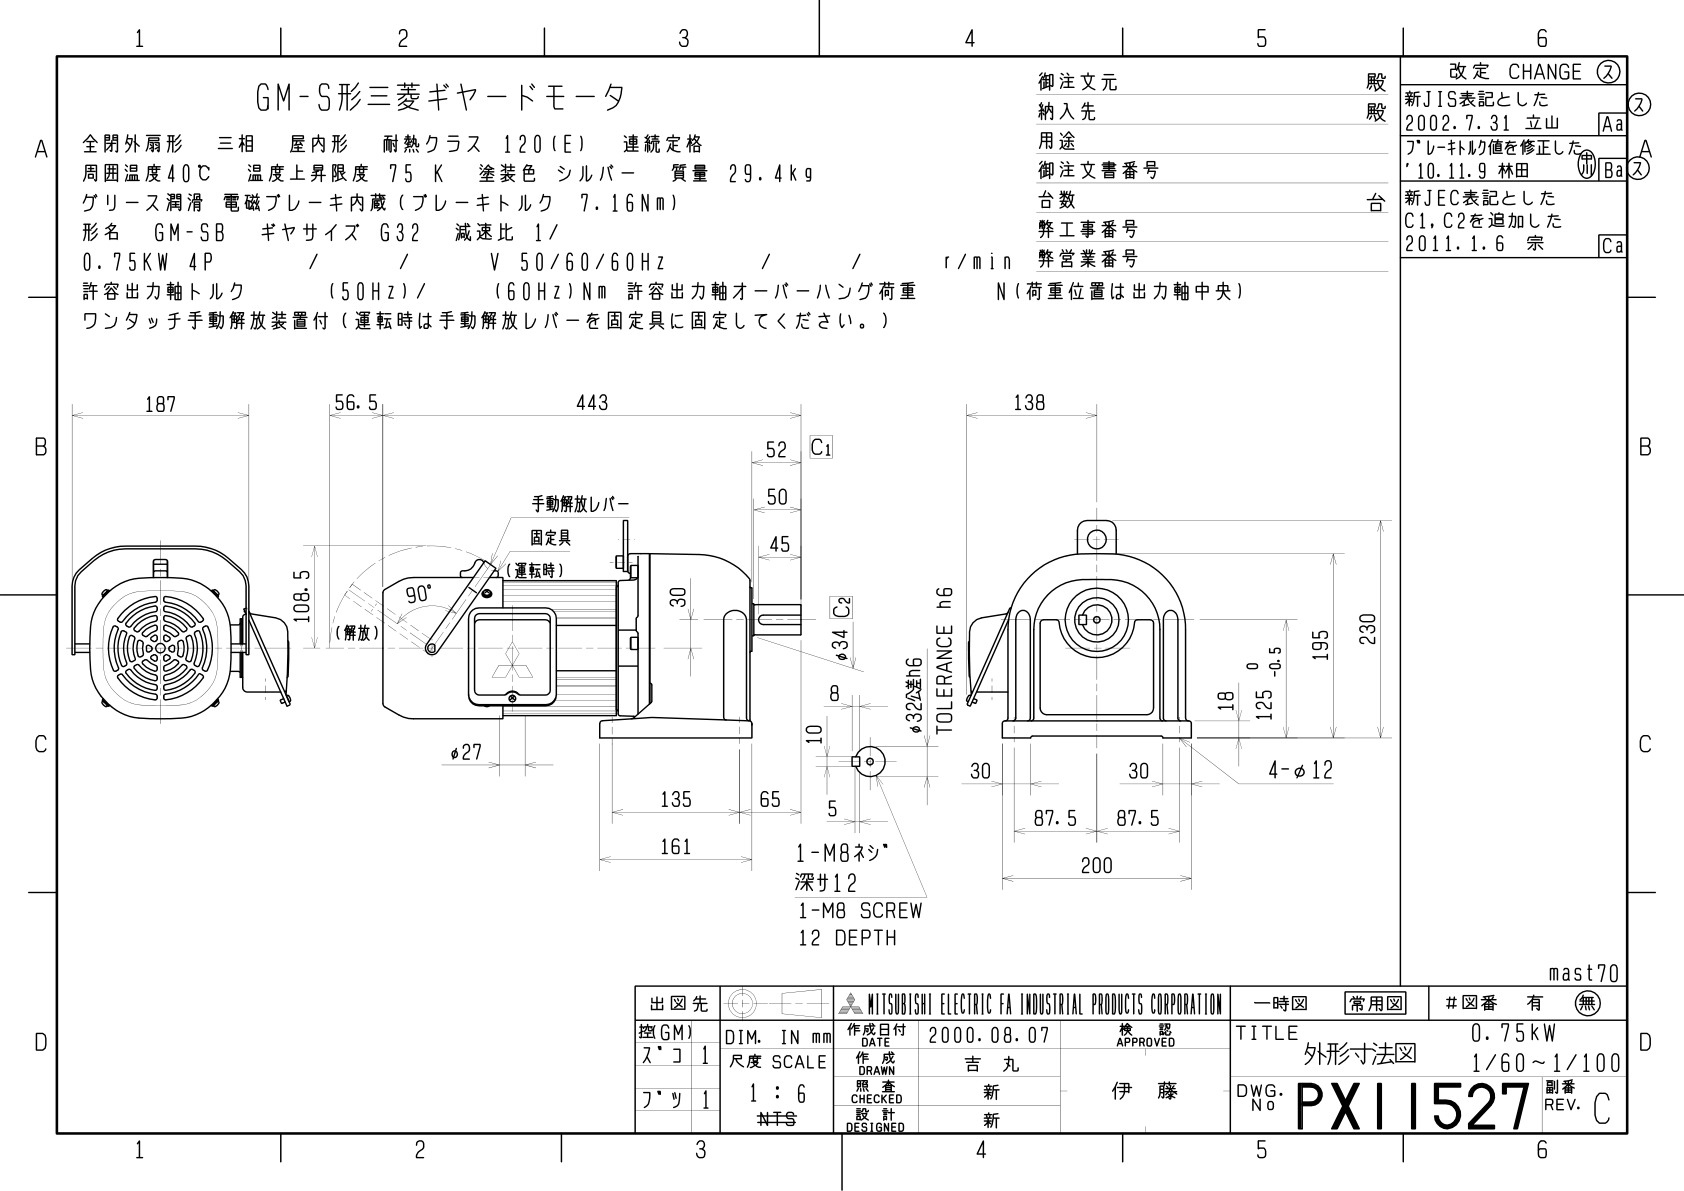GM_S_手動ブレーキ＿三相_脚: (6, 1, 1684, 1191)
